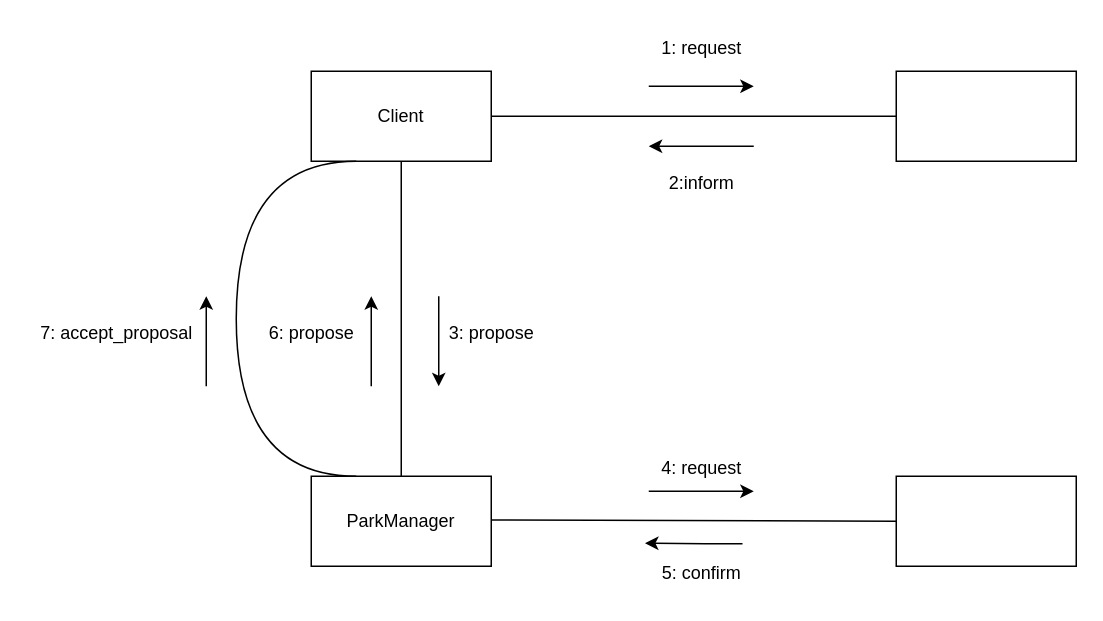
The diagram is 1103 pixels wide and 621 high, and some of its shapes have lost their labels. The box of each missing label's shape, as (x1, y1, x2, y2) in pixels:
GeneralManager: (895, 70, 1076, 161)
ZoneManager: (895, 475, 1076, 566)
